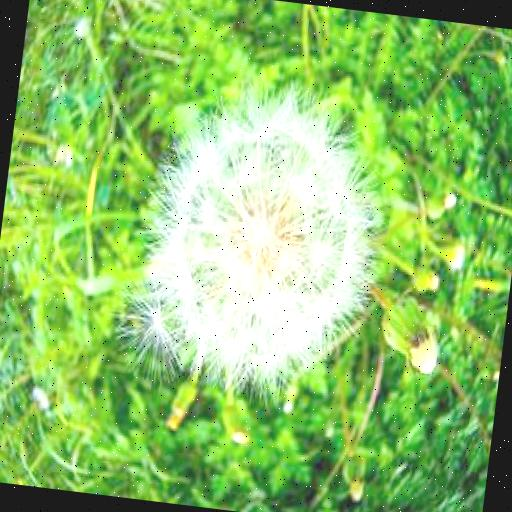dandelion: (124, 76, 390, 408)
